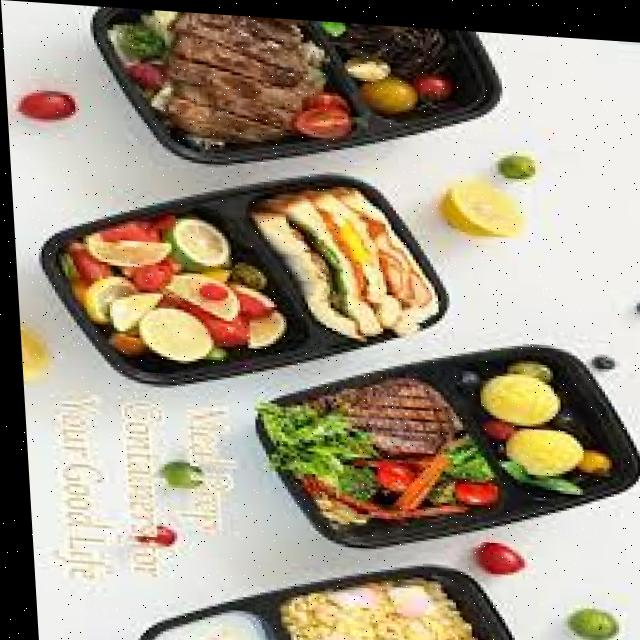disposable: (34, 146, 443, 403), (233, 314, 628, 569)
